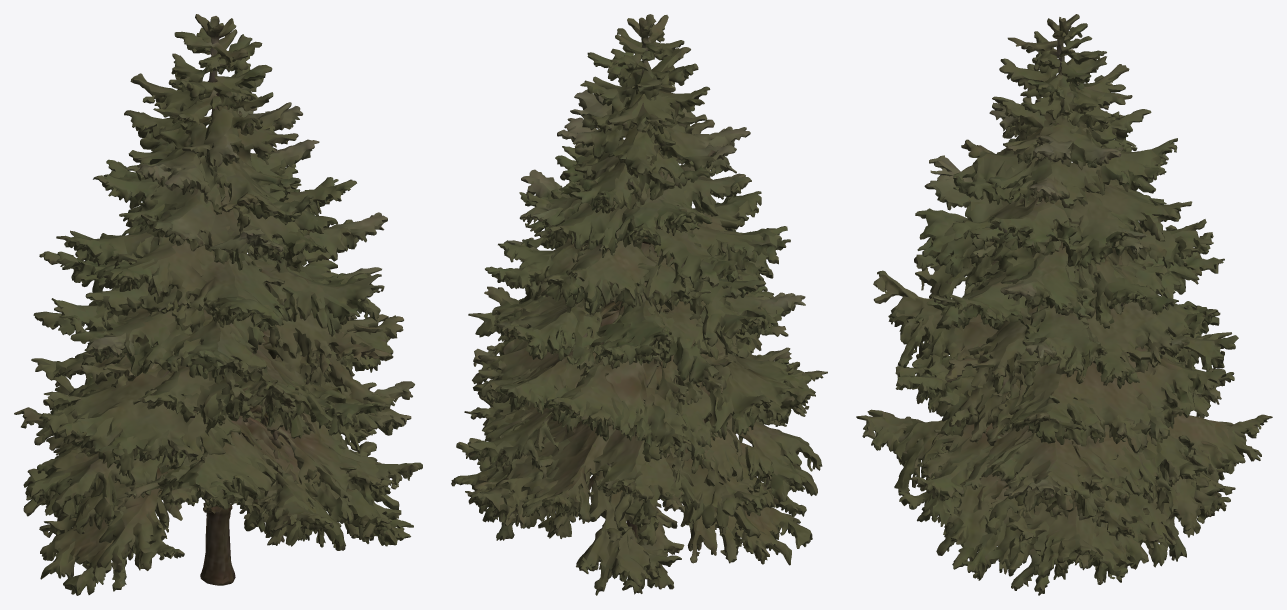
Rendered from r6-spruce-hero-r6.glb.
3 renders of one model, left to right at view 1: azimuth 30°, elevation 25°; view 2: azimuth 150°, elevation 25°; view 3: azimuth 270°, elevation 25°, orthographic. The views are drawn at different scales.
Visible parts, largest first — view 1: geometry_0; view 2: geometry_0; view 3: geometry_0.
Part boxes in pixels (left/top/right/bottom): geometry_0: left=14, top=14, right=422, bottom=595; geometry_0: left=451, top=14, right=827, bottom=595; geometry_0: left=856, top=14, right=1272, bottom=595.
Size of the model in its own units: 10.26 by 14.99 by 10.58.
Materials: 1 (1 with a texture image).
